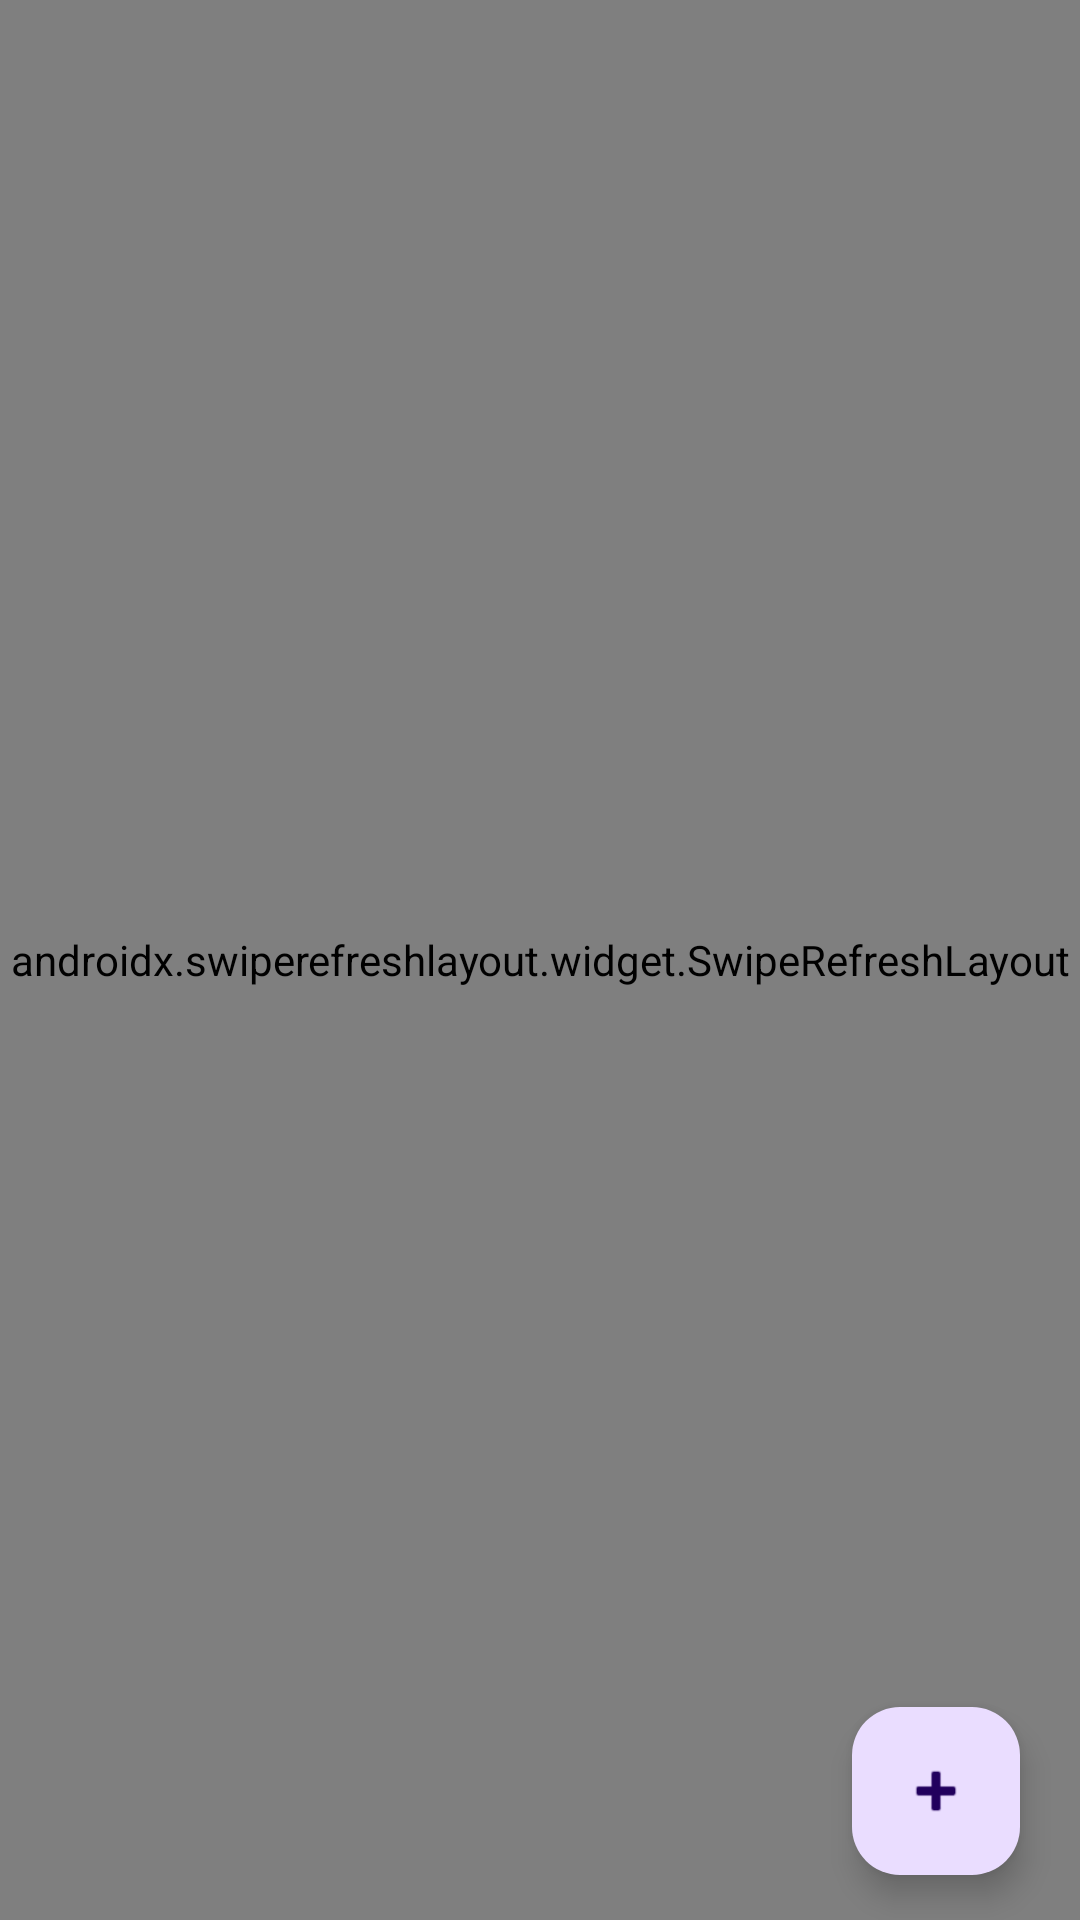

Where icons sit on this 1080w x 1920h app screen, as (x1, y1, x2, y2):
add: (852, 1707, 1020, 1875)
